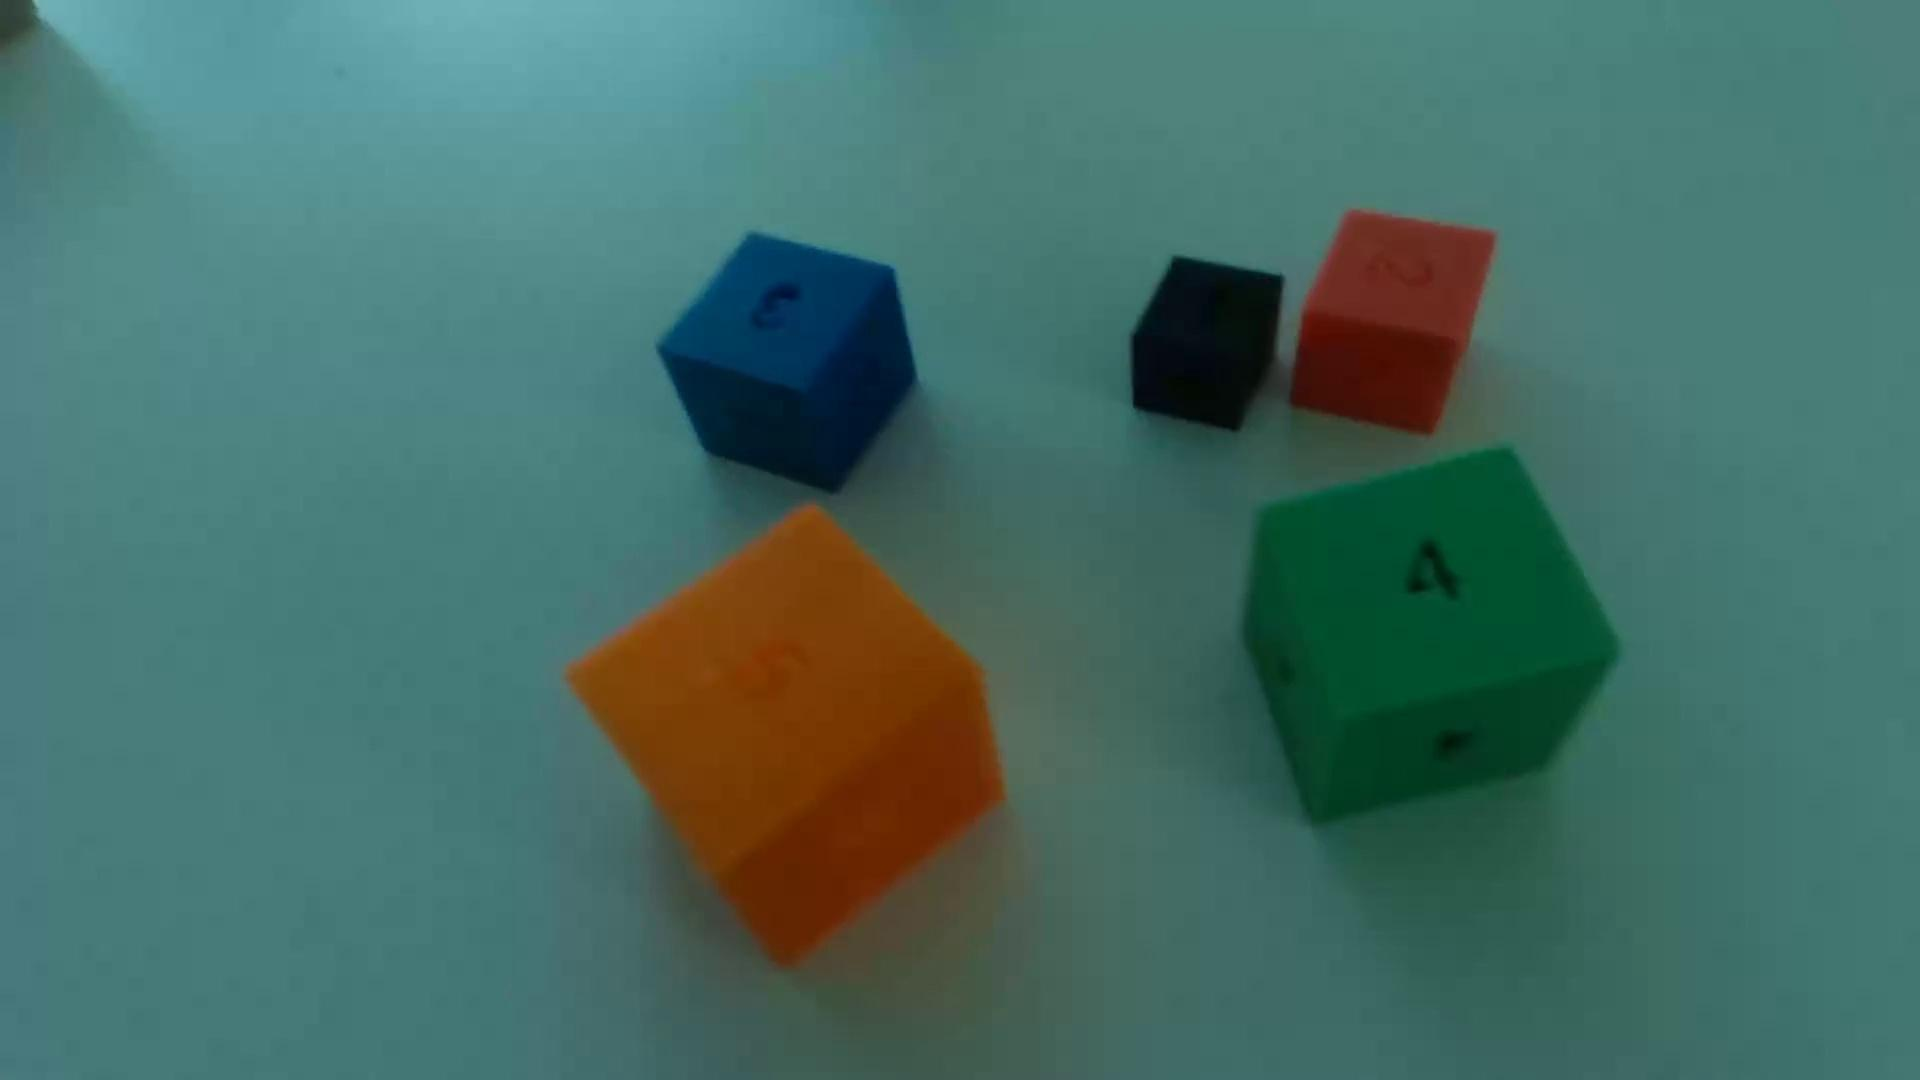black: (1129, 258, 1283, 433)
blue: (658, 235, 916, 493)
green: (1244, 448, 1618, 823)
orange: (568, 508, 1004, 964)
red: (1291, 211, 1495, 435)
